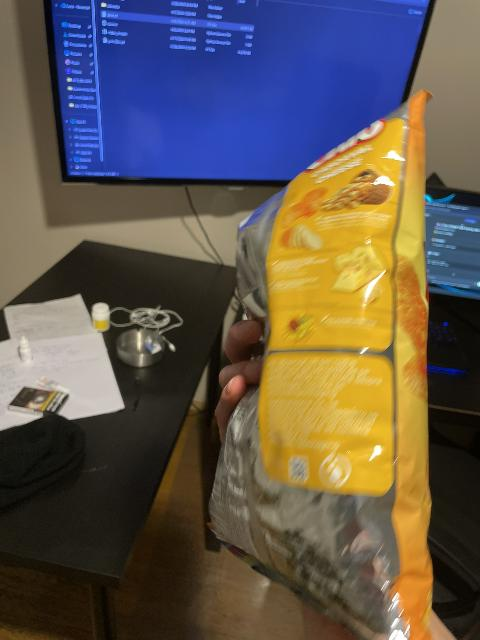Chio Cascaval 125g: (209, 97, 428, 640)
